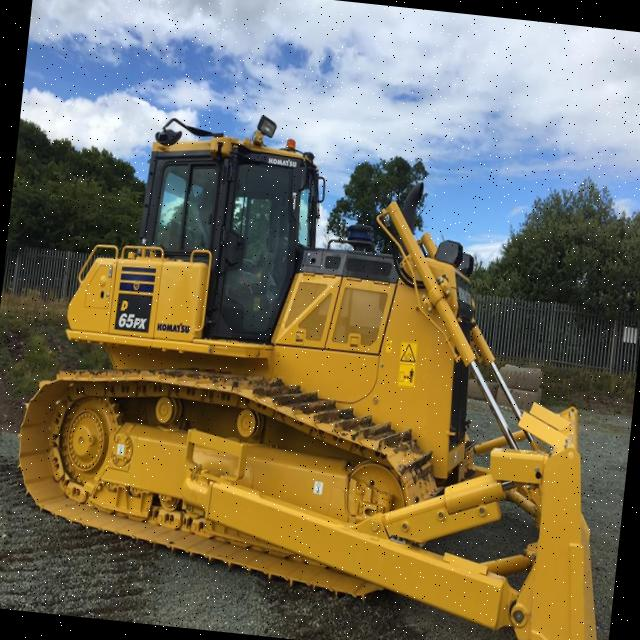Bulldozer: (1, 85, 640, 640)
